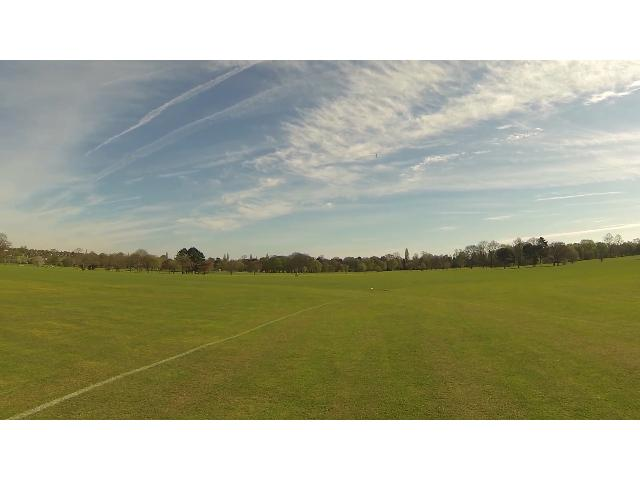Anti-Drone: (374, 151, 382, 159)
